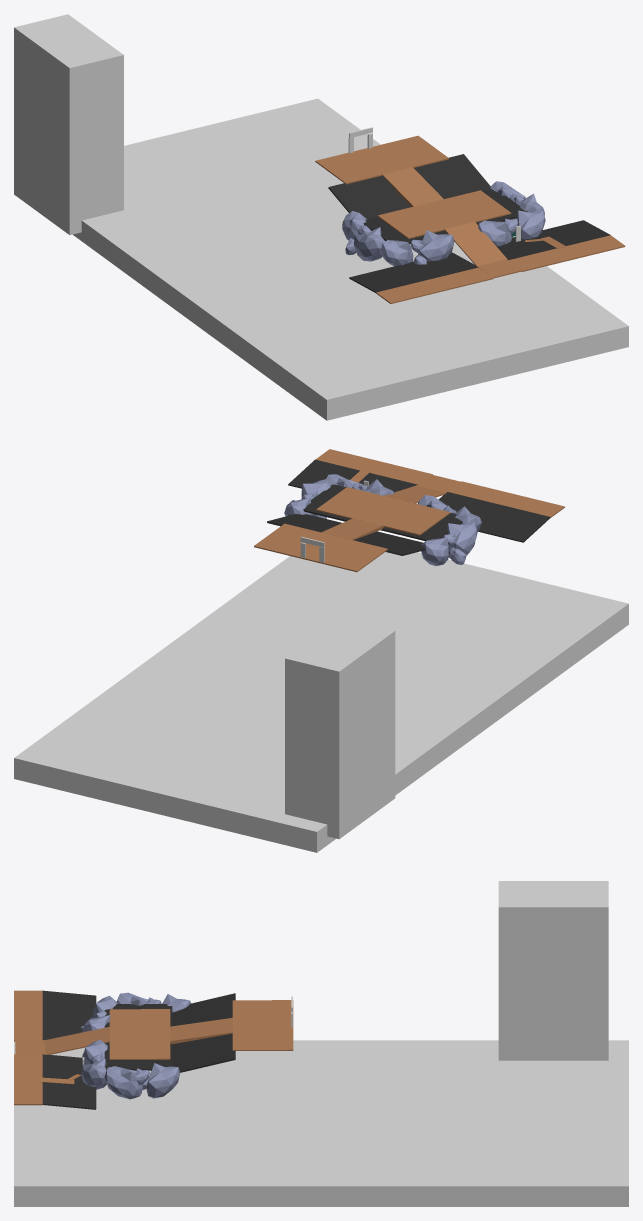
The model's file is forest level no trees.fbx.
3 renders of one model, top to bottom at view 1: azimuth 30°, elevation 25°; view 2: azimuth 150°, elevation 25°; view 3: azimuth 270°, elevation 25°, orthographic.
Visible parts, largest first — view 1: Cube.184, Cube.067, Cube.179, Cube.180, Cube.161, Cube.146, Cube.068, Cube.079, Cube, Cube.160, Cube.174, Cube.162 (+5 smaller); view 2: Cube.184, Cube.067, Cube.161, Cube.180, Cube.146, Cube.179, Cube.079, Cube, Cube.068, Cube.162, Cube.174, Icosphere.008 (+2 smaller); view 3: Cube.184, Cube.067, Cube.161, Cube.180, Cube.179, Cube.068, Cube.146, Cube, Cube.079, Cube.162, Cube.174, Cube.160 (+4 smaller).
Part boxes in pixels (x1,y1,x2,y2): Cube.184: [73, 98, 628, 420]; Cube.067: [14, 14, 123, 234]; Cube.179: [328, 154, 490, 219]; Cube.180: [315, 135, 448, 184]; Cube.161: [377, 190, 511, 238]; Cube.146: [349, 252, 478, 292]; Cube.068: [496, 220, 610, 259]; Cube.079: [376, 267, 493, 303]; Cube: [509, 235, 625, 271]; Cube.160: [444, 221, 506, 266]; Cube.174: [382, 167, 443, 206]; Cube.162: [363, 189, 527, 243]; Cube.184: [14, 552, 628, 852]; Cube.067: [285, 617, 395, 839]; Cube.161: [316, 487, 450, 535]; Cube.180: [254, 523, 387, 572]; Cube.146: [438, 492, 550, 542]; Cube.179: [267, 514, 425, 555]; Cube.079: [448, 481, 564, 517]; Cube: [315, 449, 432, 484]; Cube.068: [288, 459, 417, 492]; Cube.162: [303, 484, 462, 540]; Cube.174: [321, 518, 383, 540]; Icosphere.008: [447, 521, 477, 558]; Cube.184: [14, 1040, 628, 1206]; Cube.067: [498, 881, 608, 1060]; Cube.161: [109, 1009, 170, 1059]; Cube.180: [232, 1000, 293, 1050]; Cube.179: [172, 993, 235, 1072]; Cube.068: [42, 1054, 96, 1109]; Cube.146: [42, 990, 96, 1040]; Cube: [14, 1054, 42, 1105]; Cube.079: [14, 990, 42, 1041]; Cube.162: [104, 1004, 172, 1070]; Cube.174: [170, 1018, 232, 1044]; Cube.160: [45, 1027, 109, 1054].
Bounding box in the file's own units: 6277 × 3362 × 10763.
